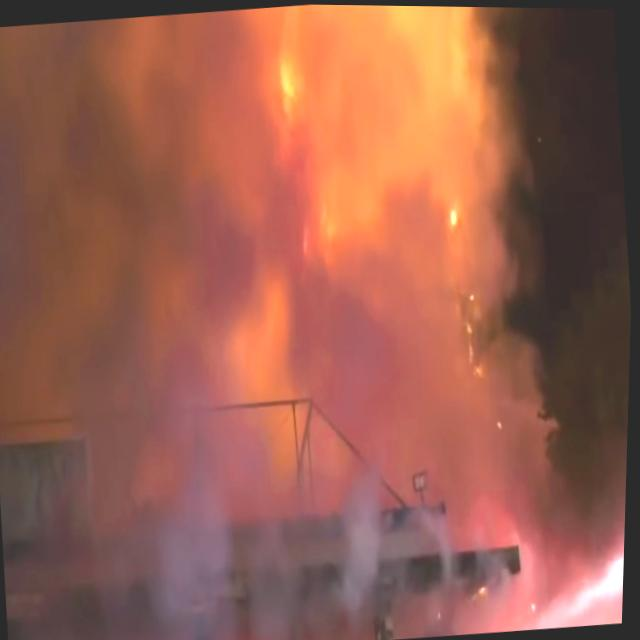smoke: (0, 0, 581, 404)
